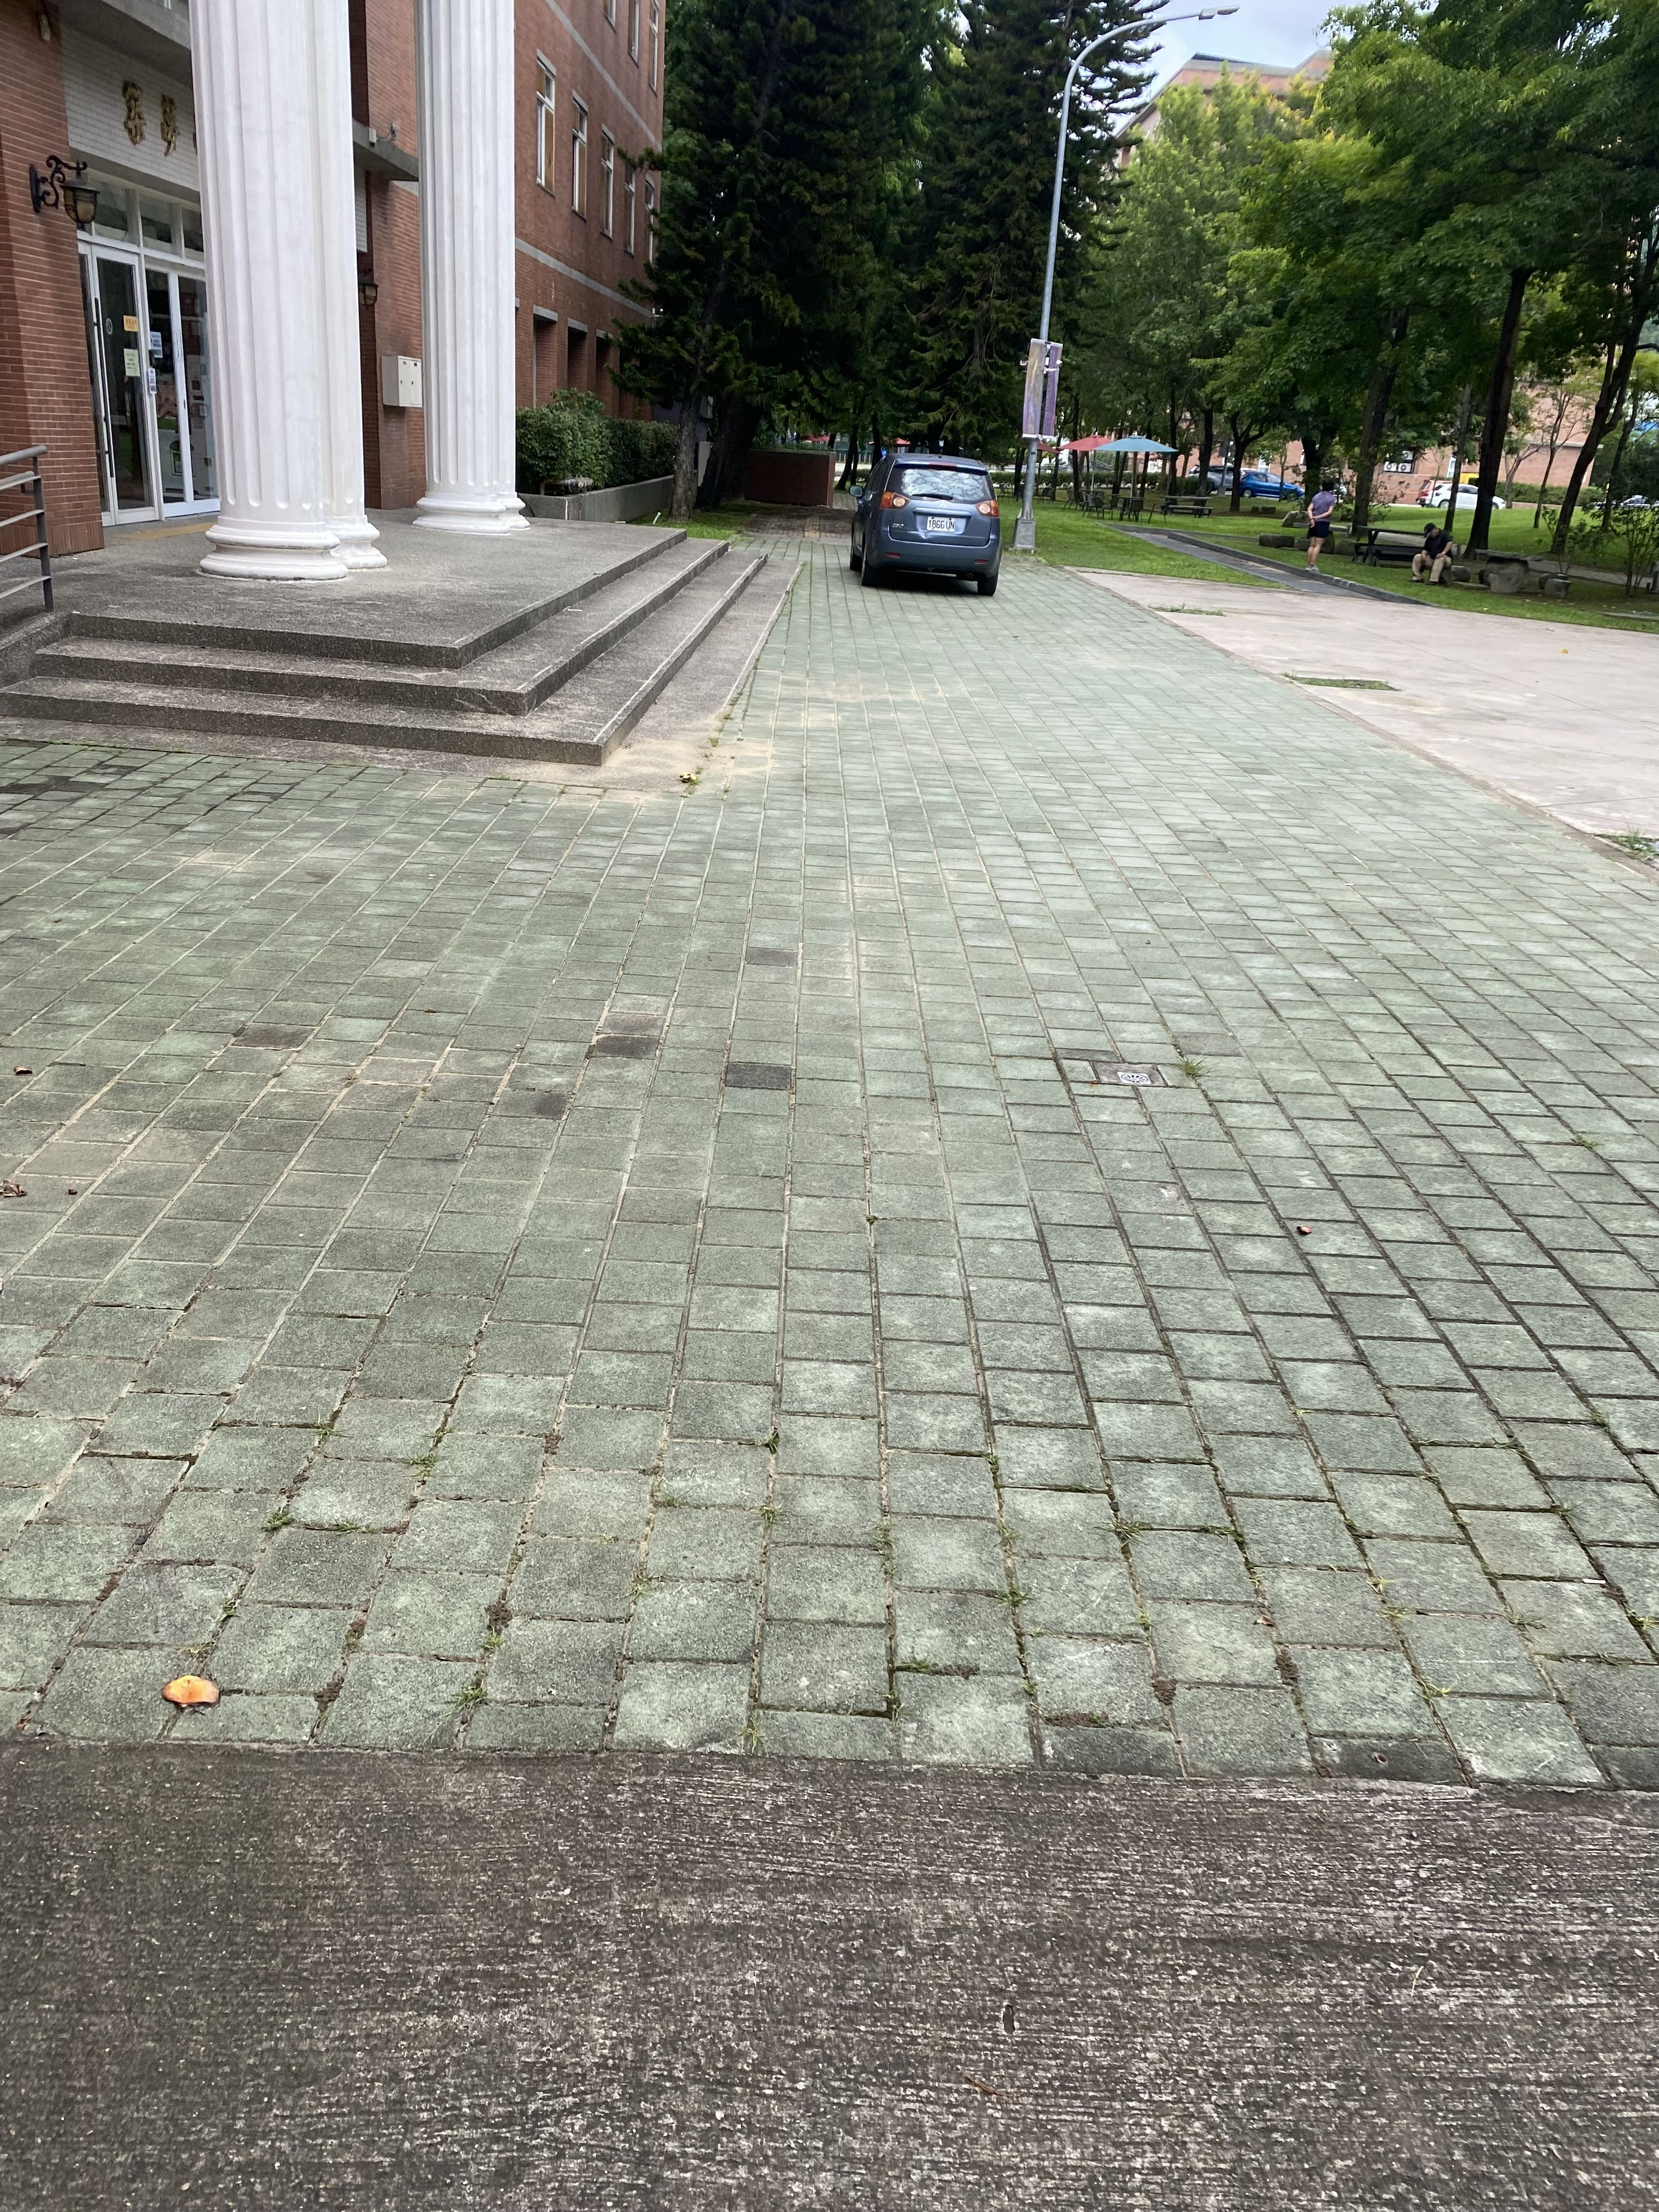sidewalk: (7, 488, 1659, 2205)
